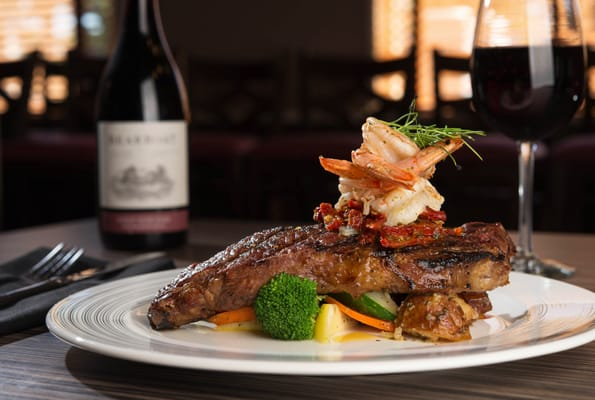burger: (0, 246, 174, 321), (0, 242, 85, 287)
curry: (253, 272, 321, 341)
